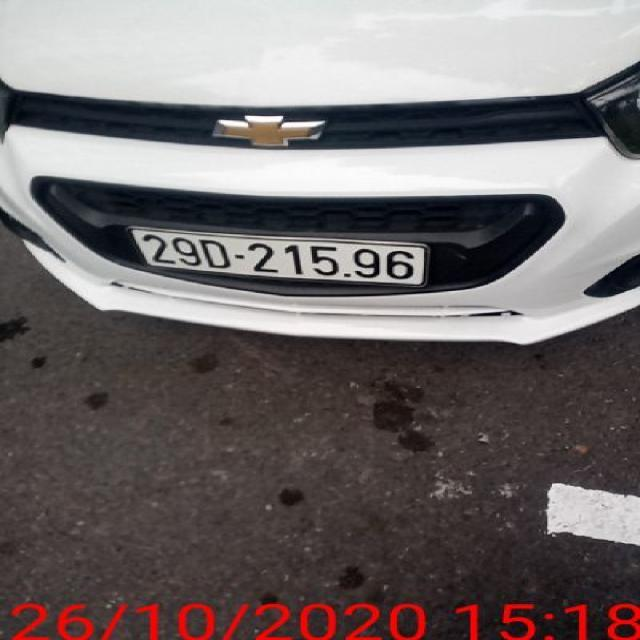bien_so_oto: (128, 225, 431, 289)
